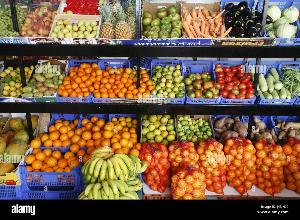banana: (78, 152, 144, 200)
carrot: (180, 1, 224, 40)
eggplant: (220, 5, 268, 41)
grape: (1, 4, 30, 38)
lime: (150, 62, 184, 100), (176, 115, 212, 147), (0, 64, 32, 96), (142, 113, 176, 143)
orange: (142, 144, 298, 200)
peach: (22, 8, 57, 38)
pear: (50, 17, 100, 39)
pineapple: (100, 3, 140, 37)
tomato: (100, 60, 150, 102), (26, 146, 86, 174), (141, 1, 181, 42), (216, 60, 254, 102), (57, 62, 97, 100), (184, 61, 216, 101), (110, 117, 142, 147), (46, 115, 80, 143), (79, 116, 109, 146)
zucchini: (258, 58, 292, 100)
